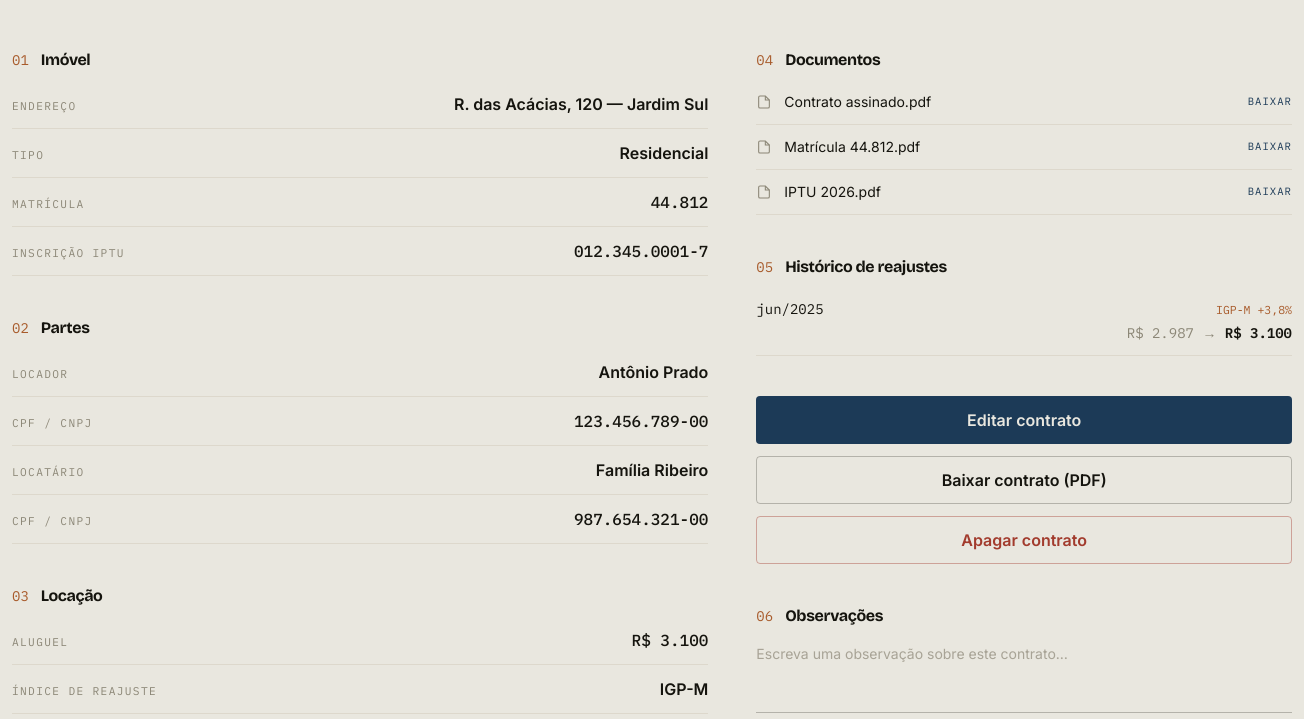
Test case: ContratoCorpo › mostra mensagem de erro quando a exclusão falha
Click the button "Apagar contrato".
click(1024, 540)  # box [756,516,1292,564]
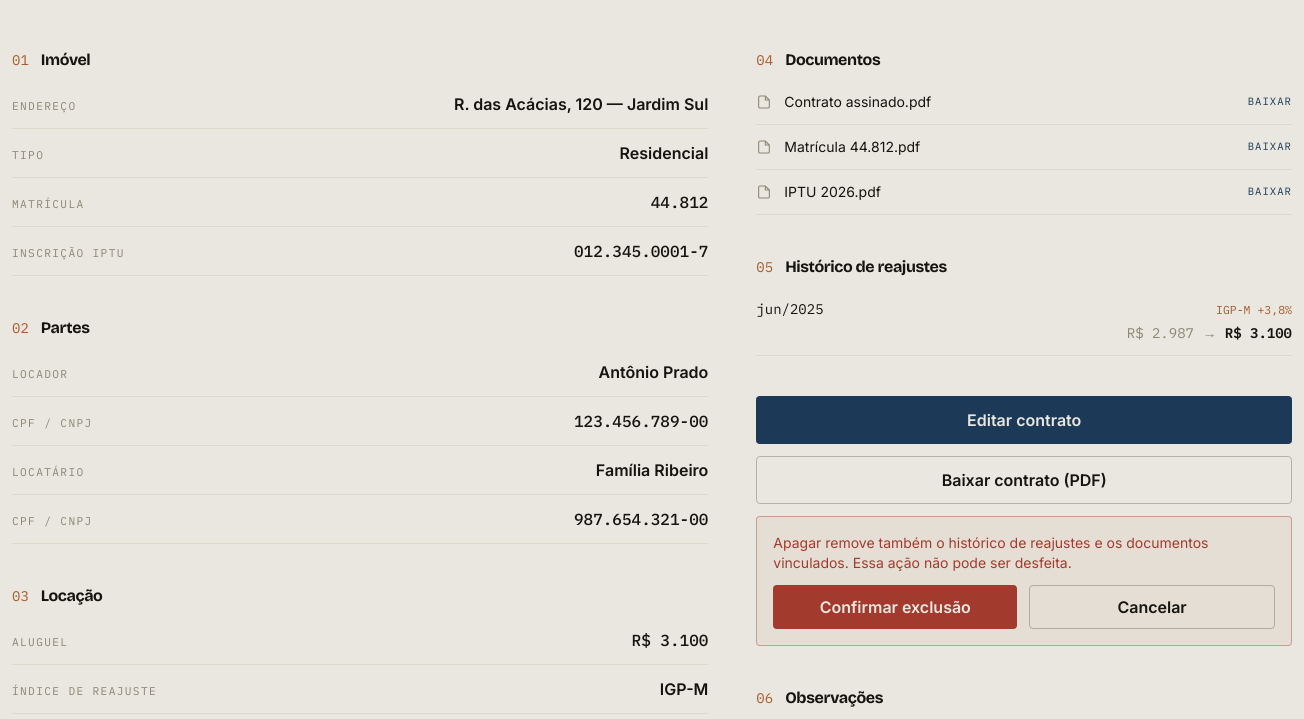
Click the button "Confirmar exclusão".
click(895, 607)  # box [773,585,1017,629]
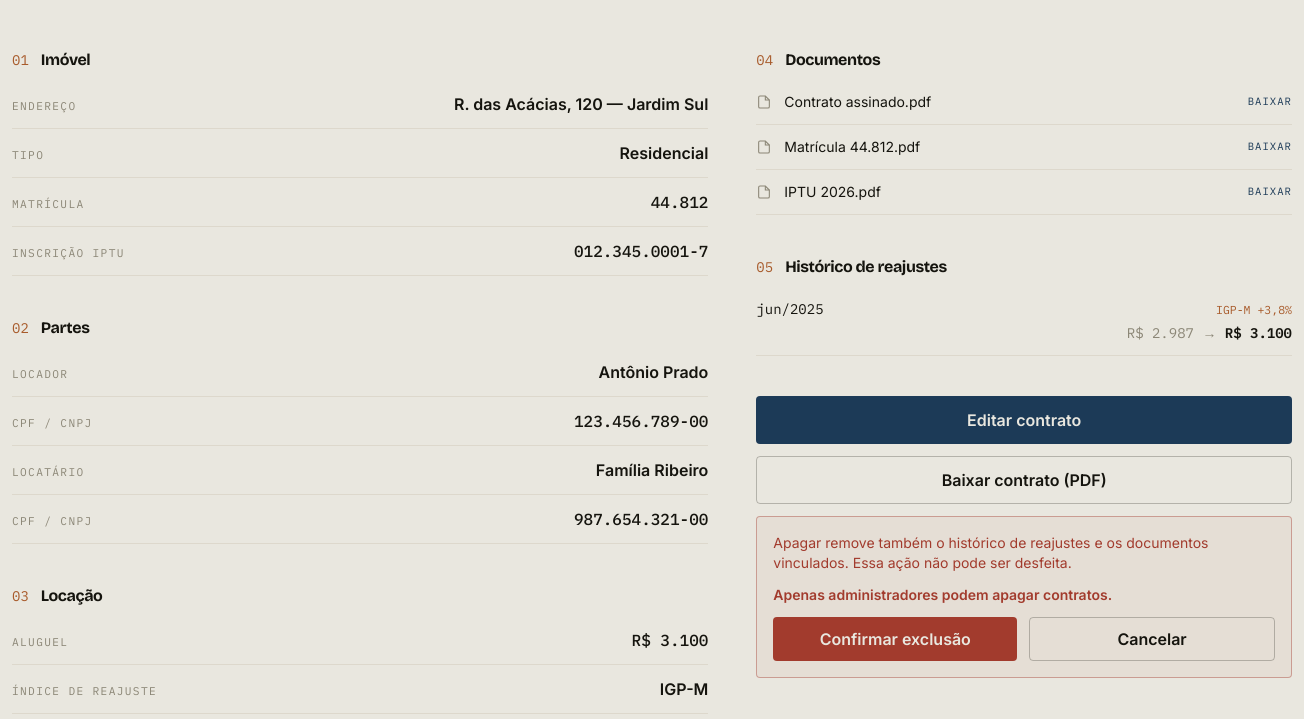
Expected: the text "Apenas administradores podem apagar contratos." is shown, [773,586,1112,603]
